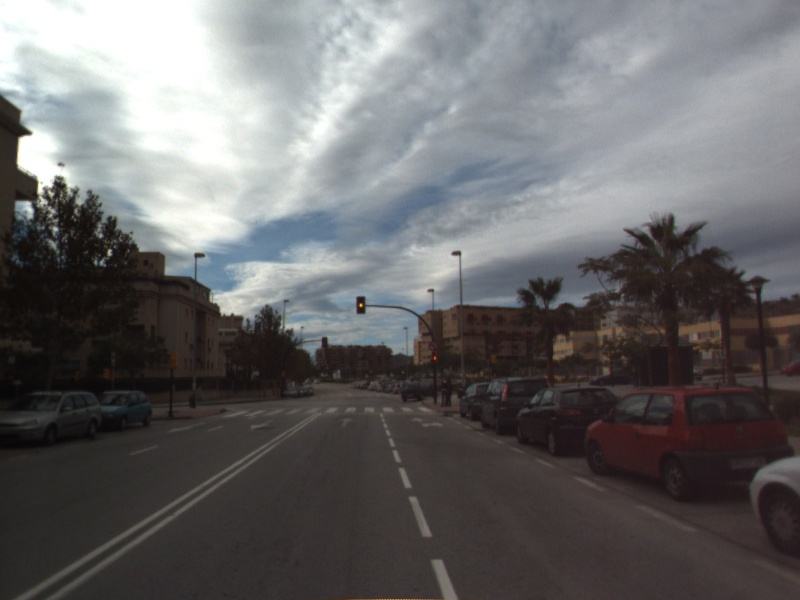STRAIGHT: (336, 415, 357, 430)
STRAIGHT_RIGHT: (408, 415, 446, 430)
